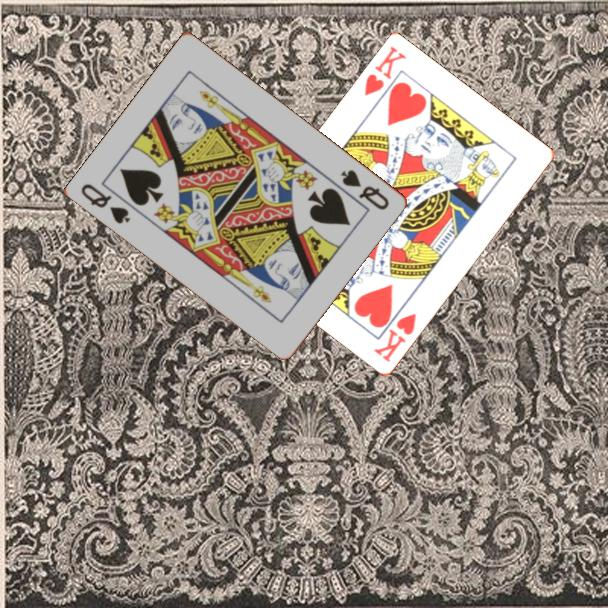h13: (370, 310, 419, 365), (361, 43, 409, 99)
s12: (78, 180, 134, 227), (337, 166, 392, 213)
